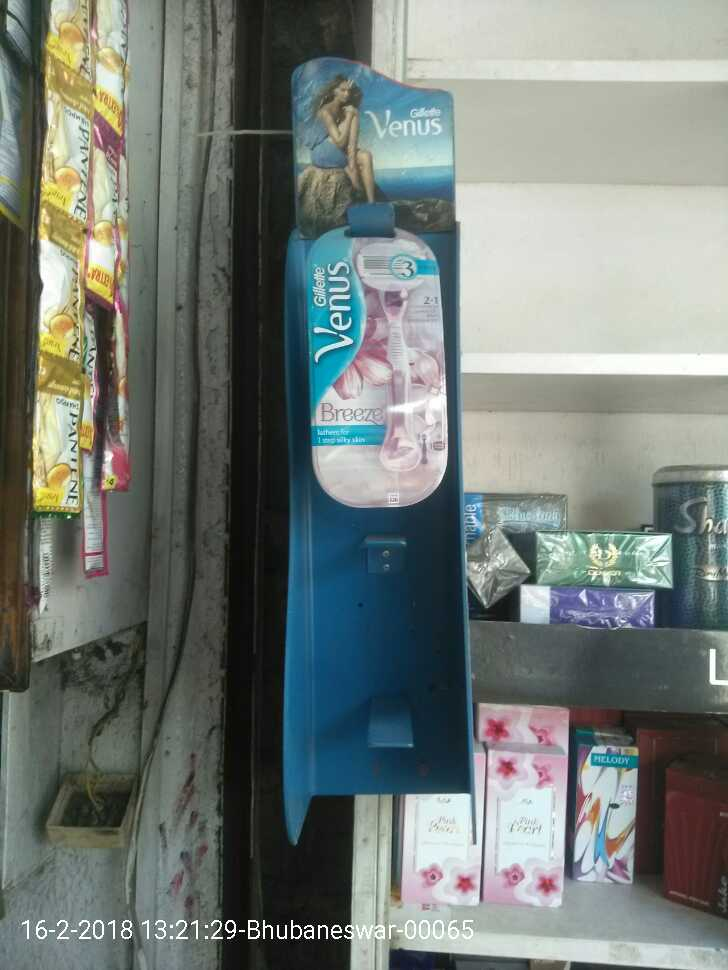venus: (317, 227, 464, 511)
